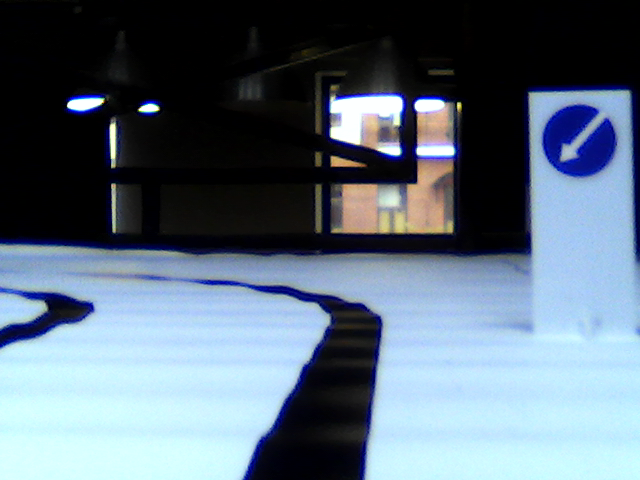prep: (545, 102, 616, 180)
